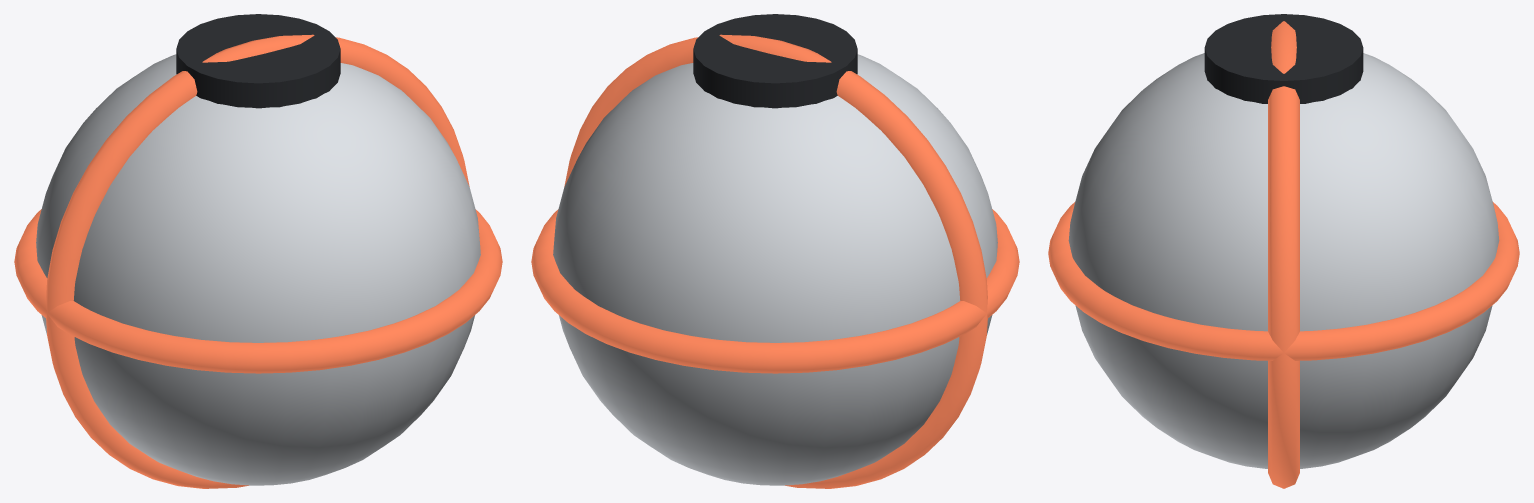
File: core_1.glb
3 views of the same model, side by side, from view 1: azimuth 30°, elevation 25°; view 2: azimuth 150°, elevation 25°; view 3: azimuth 270°, elevation 25° (orthographic). The views are drawn at different scales.
Bounding box in the file's own units: 0.654 × 0.654 × 0.654.
